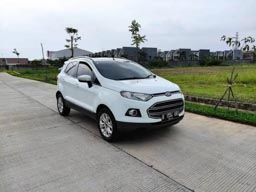plat: (160, 111, 179, 122)
